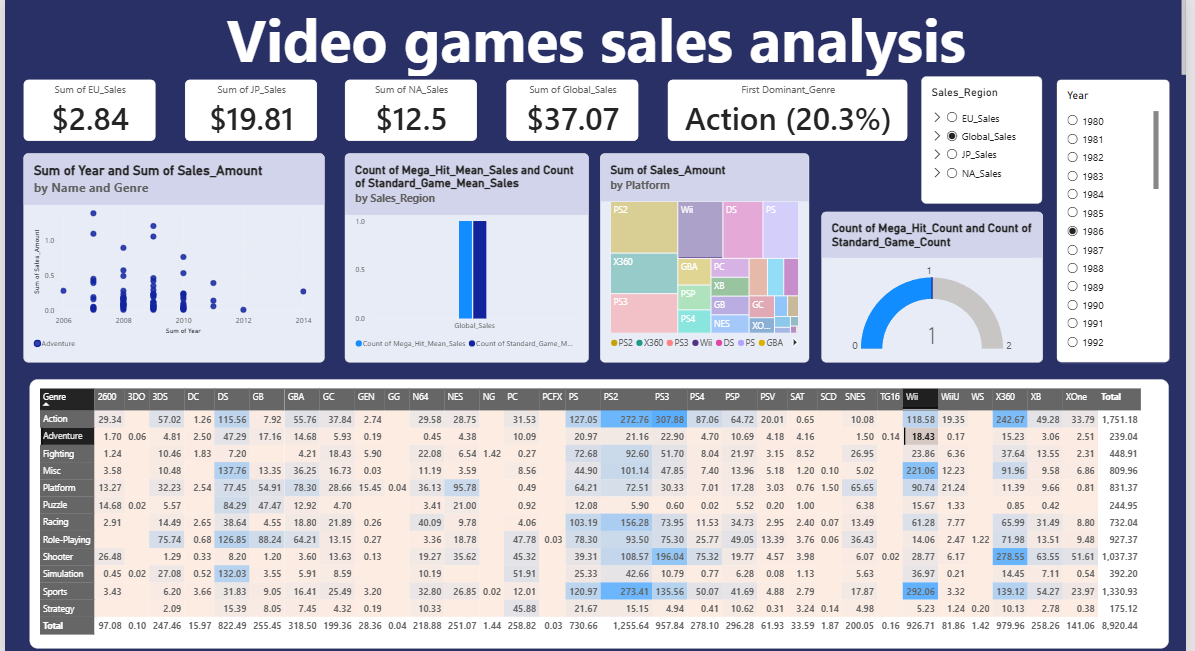

This screenshot's page, from the dashboard's own definition file:
{"tool":"powerbi","page":{"name":"Page 1","canvas":[1920,1080],"ordinal":0},"visuals":[{"type":"textbox","box":[9.7,0,1911.1,126.4],"z":0},{"type":"listSlicer","fields":{"Values":["vgsales.Year"]},"box":[1710,133.3,183.3,460],"z":1000},{"type":"cardVisual","fields":{"Data":["Sum(vgsales.EU_Sales)"]},"box":[30,132.7,215,100],"z":2000},{"type":"cardVisual","fields":{"Data":["Sum(vgsales.JP_Sales)"]},"box":[291.7,132.7,215,100],"z":3000},{"type":"cardVisual","fields":{"Data":["Sum(vgsales.Global_Sales)"]},"box":[815,132.7,215,100],"z":4000},{"type":"cardVisual","fields":{"Data":["Sum(vgsales.NA_Sales)"]},"box":[553.3,132.7,215,100],"z":5000},{"type":"gauge","fields":{"Y":["CountNonNull(Sheet1 (2).Mega_Hit_Count)"],"TargetValue":["CountNonNull(Sheet1 (2).Standard_Game_Count)"]},"box":[1327.5,347.5,360,245],"z":6000},{"type":"areaChart","fields":{"Category":["vgsales.Genre"],"Y":["CountNonNull(vgsales.Platform)","Sum(vgsales.total_sales)"]},"box":[752.5,692.5,646.2,337.4],"z":7000},{"type":"listSlicer","fields":{"Values":["Sheet1 (2).Sales_Region","Sheet1.Genre"]},"box":[1490,126.7,196.7,206.7],"z":8000},{"type":"clusteredColumnChart","title":"Average Performance: Blockbusters vs. Market Baseline","fields":{"Category":["Sheet1 (2).Sales_Region"],"Y":["CountNonNull(Sheet1 (2).Mega_Hit_Mean_Sales)","CountNonNull(Sheet1 (2).Standard_Game_Mean_Sales)"]},"box":[553.3,253.3,396.7,340],"z":9000},{"type":"cardVisual","fields":{"Data":["Min(Sheet1 (2).Dominant_Genre)"]},"box":[1076.7,132.7,390,100],"z":10000},{"type":"pivotTable","fields":{"Rows":["Sheet1.Genre"],"Columns":["Sheet1.Platform"],"Values":["Sum(Sheet1.Sales_Amount)"]},"box":[40,620,1852.5,437.5],"z":11000},{"type":"scatterChart","title":"Outlier Distribution Across Release Eras","fields":{"X":["Sum(Sheet1.Year)"],"Y":["Sum(Sheet1.Sales_Amount)"],"Category":["Sheet1.Name"],"Series":["Sheet1.Genre"]},"box":[30,253.3,490,340],"z":12000},{"type":"treemap","title":"Platform Market Share Dominance","fields":{"Group":["Sheet1.Platform"],"Values":["Sum(Sheet1.Sales_Amount)"]},"box":[966.7,253.3,340,340],"z":13000},{"type":"shape","box":[100,100,300,300],"z":14000}]}

Visuals, with their boxes in screenshot pixels (x1, y1, x2, y2):
textbox: box=[6, 0, 1183, 72]
listSlicer - vgsales.Year: box=[1053, 76, 1166, 359]
cardVisual - Sum(vgsales.EU_Sales): box=[18, 75, 151, 137]
cardVisual - Sum(vgsales.JP_Sales): box=[180, 75, 312, 137]
cardVisual - Sum(vgsales.Global_Sales): box=[502, 75, 634, 137]
cardVisual - Sum(vgsales.NA_Sales): box=[341, 75, 473, 137]
gauge - CountNonNull(Sheet1 (2).Mega_Hit_Count) x CountNonNull(Sheet1 (2).Standard_Game_Count): box=[817, 208, 1039, 359]
areaChart - vgsales.Genre x CountNonNull(vgsales.Platform): box=[463, 420, 861, 628]
listSlicer - Sheet1 (2).Sales_Region x Sheet1.Genre: box=[917, 72, 1039, 199]
"Average Performance: Blockbusters vs. Market Baseline" clusteredColumnChart: box=[341, 150, 585, 359]
cardVisual - Min(Sheet1 (2).Dominant_Genre): box=[663, 75, 903, 137]
pivotTable - Sheet1.Genre x Sheet1.Platform: box=[25, 376, 1165, 645]
"Outlier Distribution Across Release Eras" scatterChart: box=[18, 150, 320, 359]
"Platform Market Share Dominance" treemap: box=[595, 150, 805, 359]
shape: box=[62, 55, 246, 240]
